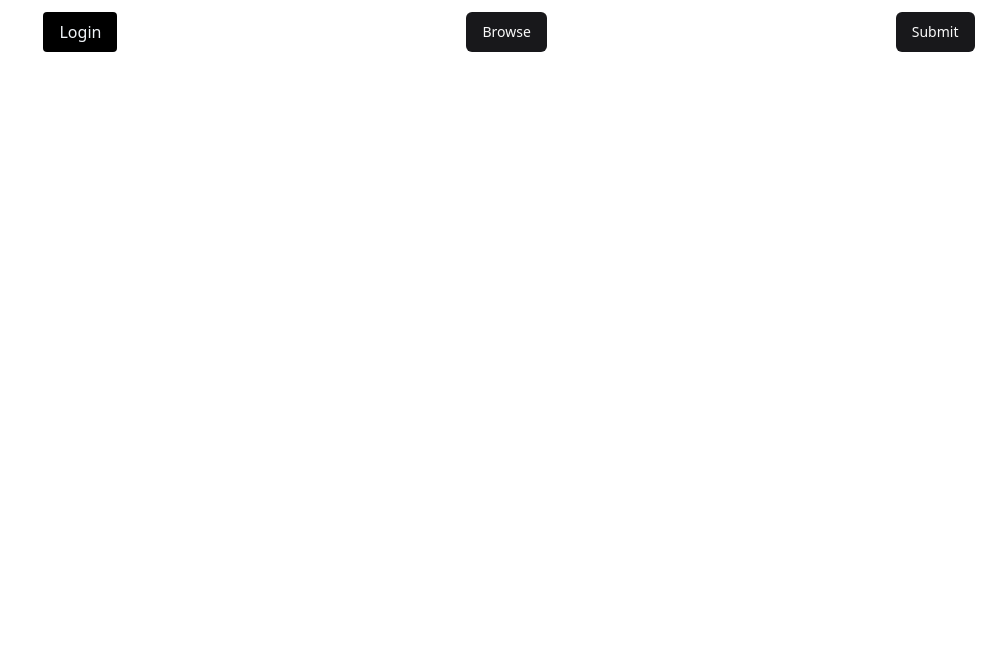
Scenario: AccountHeader Component › should provide login component when clicking sign in
Click the button "Login" at (80, 32), box [44, 12, 117, 52]
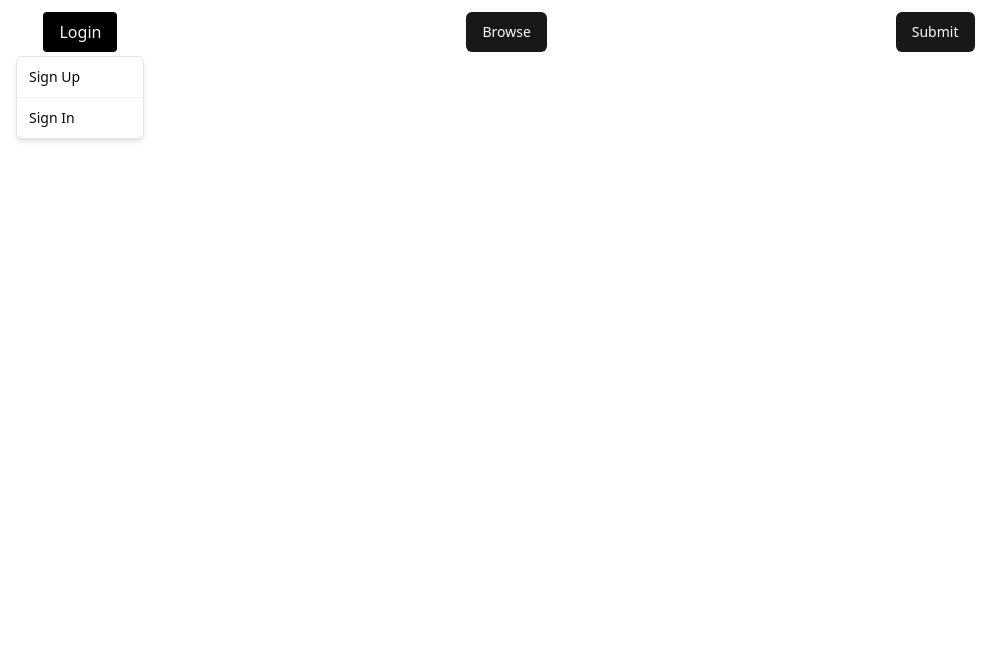
Click the menu item "Sign In" at (52, 118), box [29, 108, 75, 127]
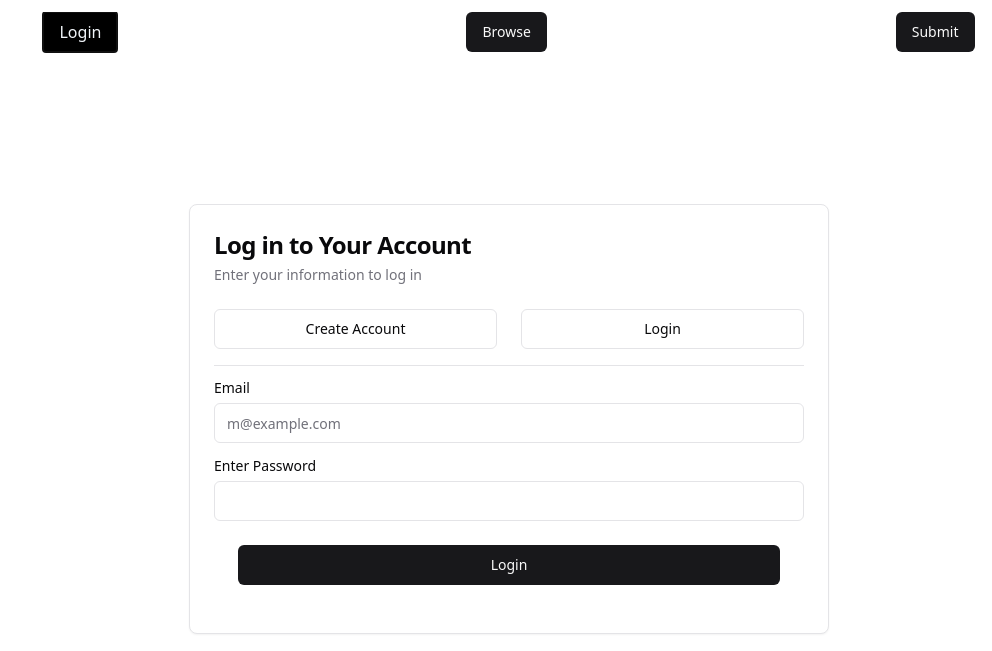
Now the heading "Log in to Your Account" is shown, box [214, 228, 471, 261]
